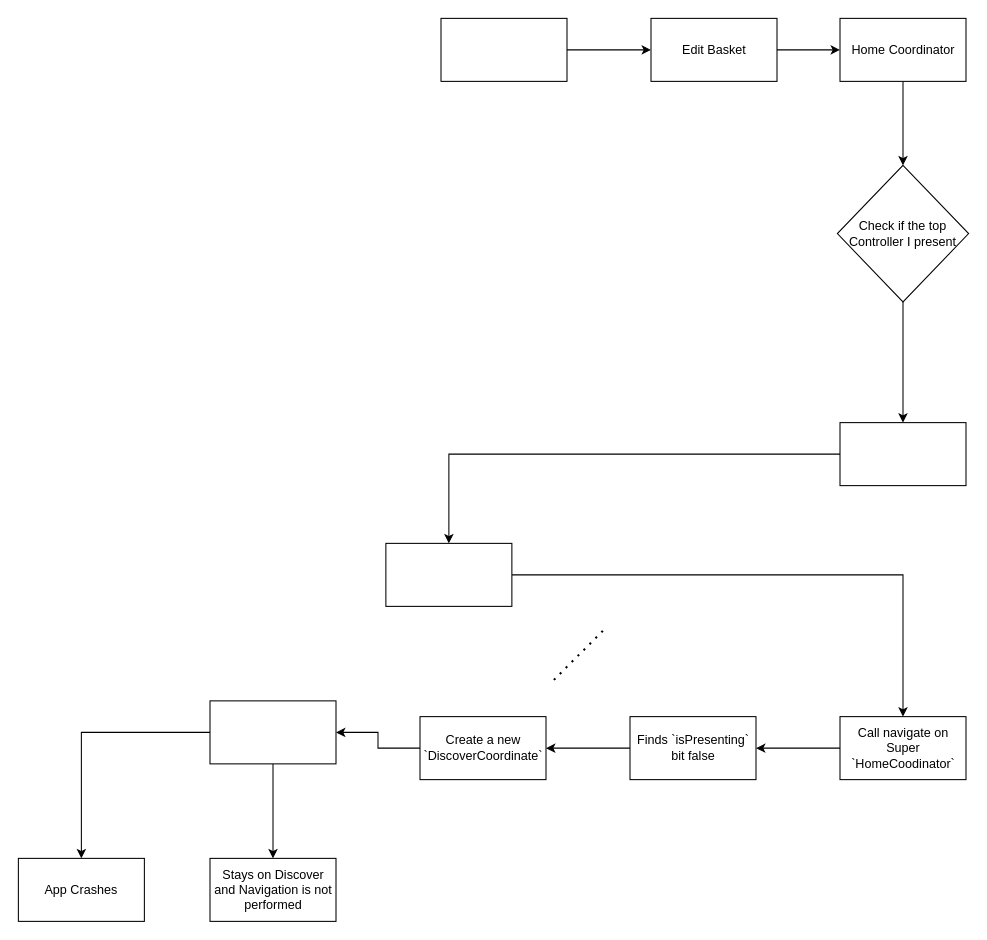
Some shapes in this 987 by 940 pixel diagram are drawn without their labels. The shapes that lost their labels are listed below. From the top down, each one's centre as x and y in pixels, then its label:
At pixel 503 49: "Tracking Screen".
At pixel 902 454: "Dismiss All Till it reaches Discover".
At pixel 448 574: "Top Cordinate is `DiscoverCoordinate`".
At pixel 272 732: "Replaces the entire navigation stack with newly created Discover Coodinate".
